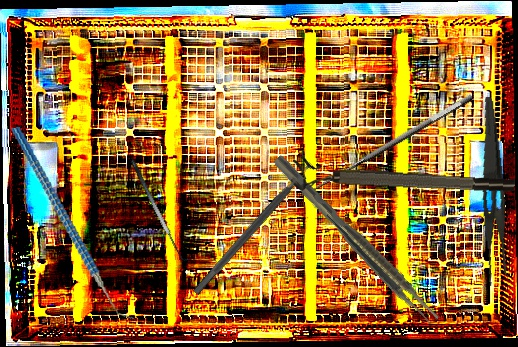Chopper: (10, 112, 137, 335)
Dressing Forceps: (463, 96, 517, 287)
Fixation Ring: (184, 148, 324, 303), (290, 159, 516, 206)
Hook Surgical: (300, 91, 482, 210)
Spatula Surgical: (129, 154, 192, 265)
Tissue Forceps: (272, 149, 442, 330)
